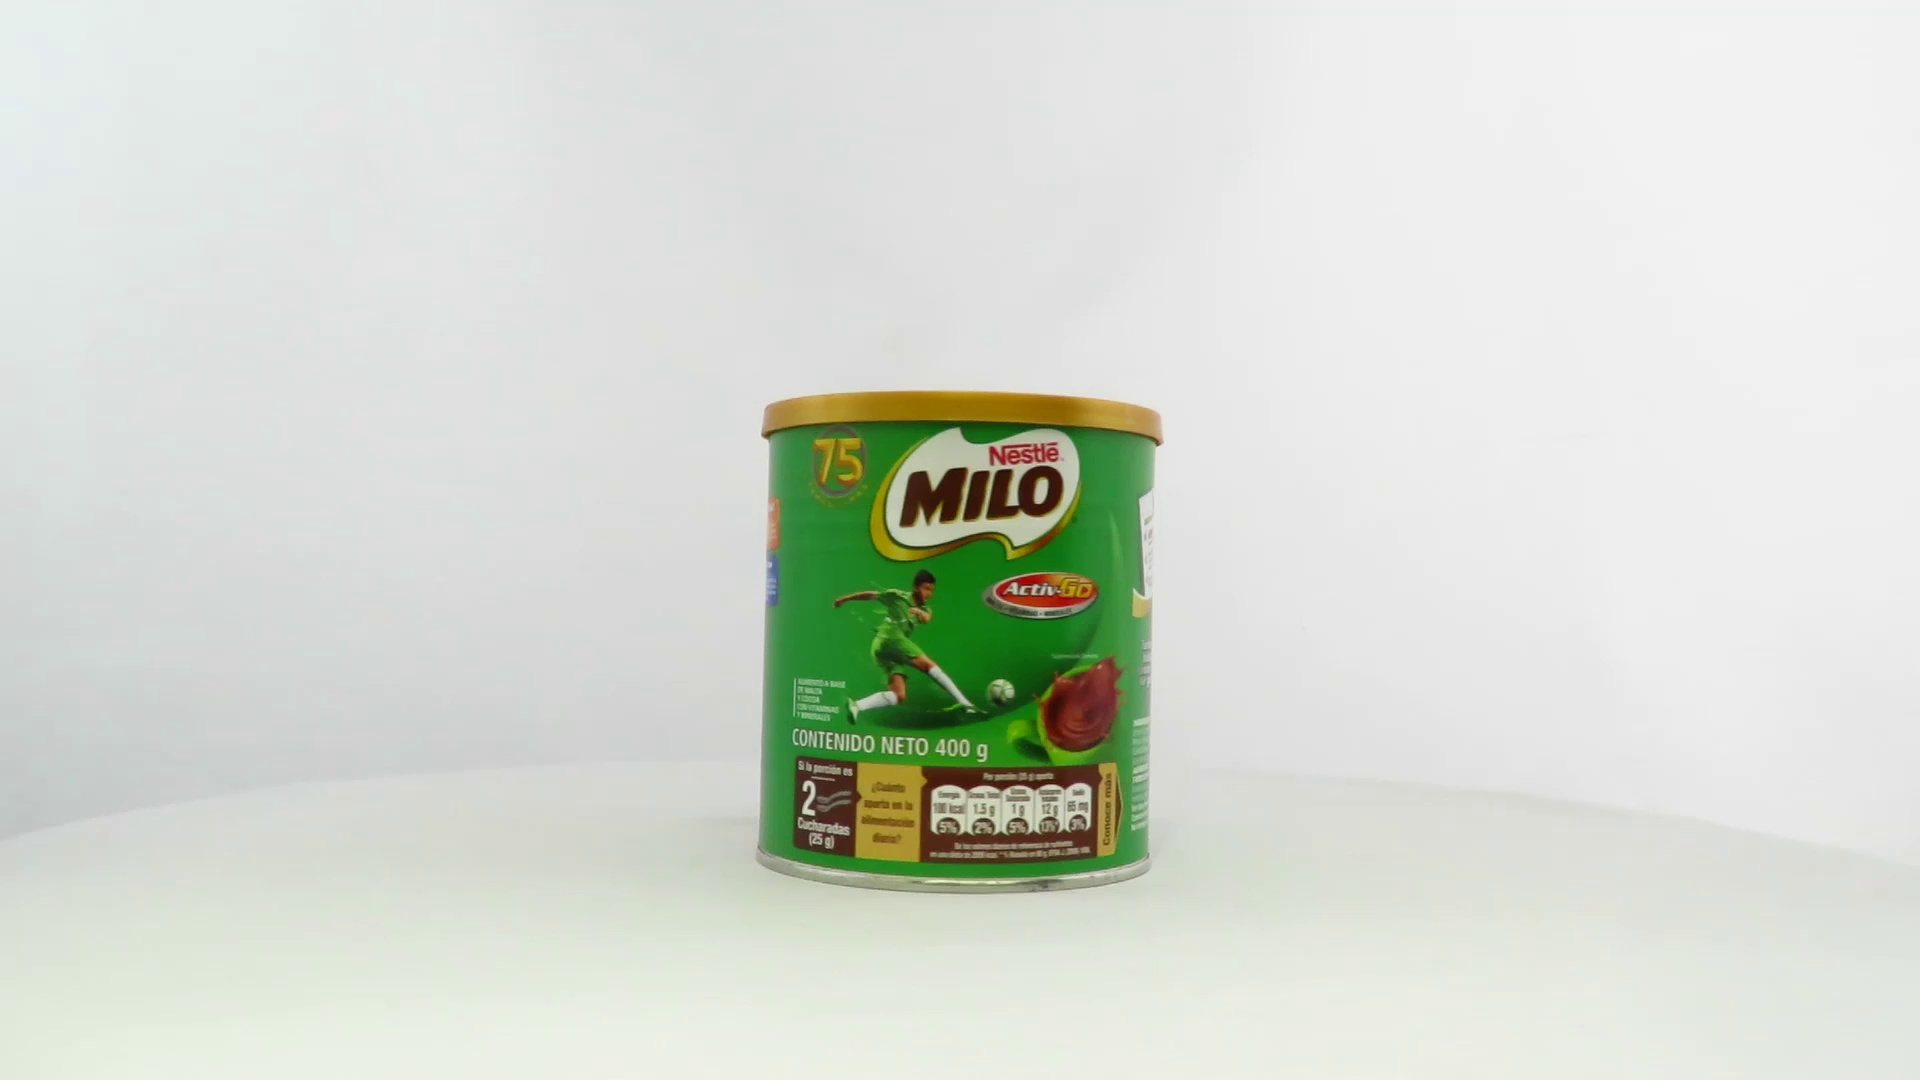COL0170203LAT40000: (750, 385, 1170, 901)
